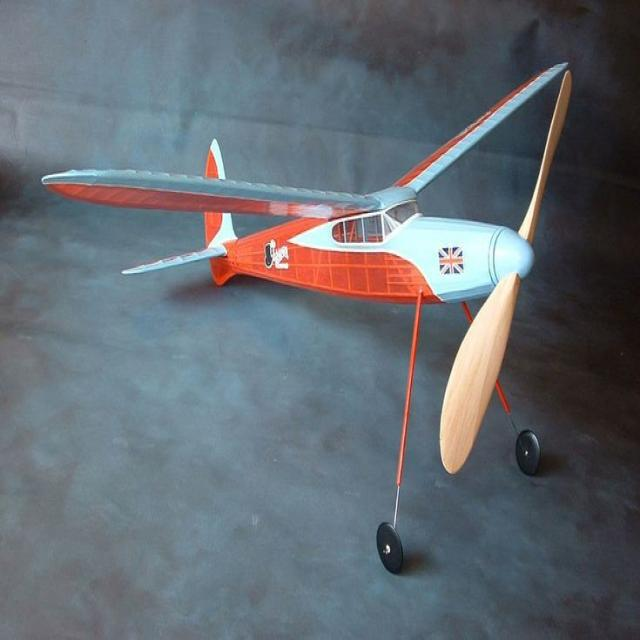iha: (41, 56, 573, 575)
